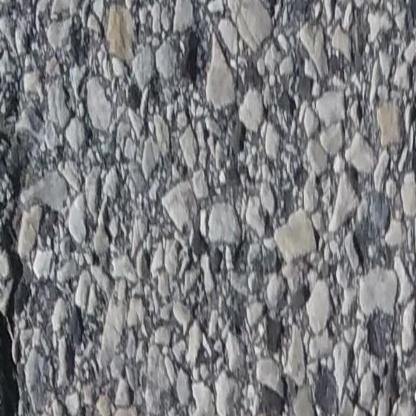Cracks: (0, 165, 27, 416)
